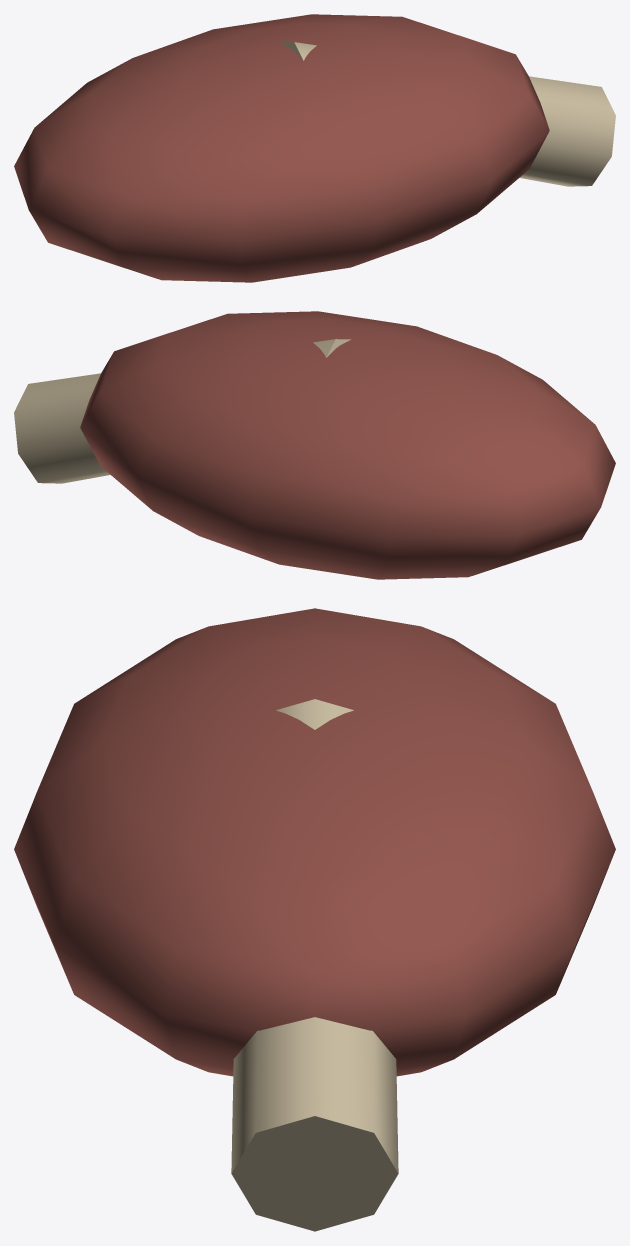
Rendered from meat-loot.glb.
3 renders of one model, top to bottom at view 1: azimuth 30°, elevation 25°; view 2: azimuth 150°, elevation 25°; view 3: azimuth 270°, elevation 25°, orthographic. The views are drawn at different scales.
Bounding box in the file's own units: 0.6112 × 0.2154 × 0.36.
